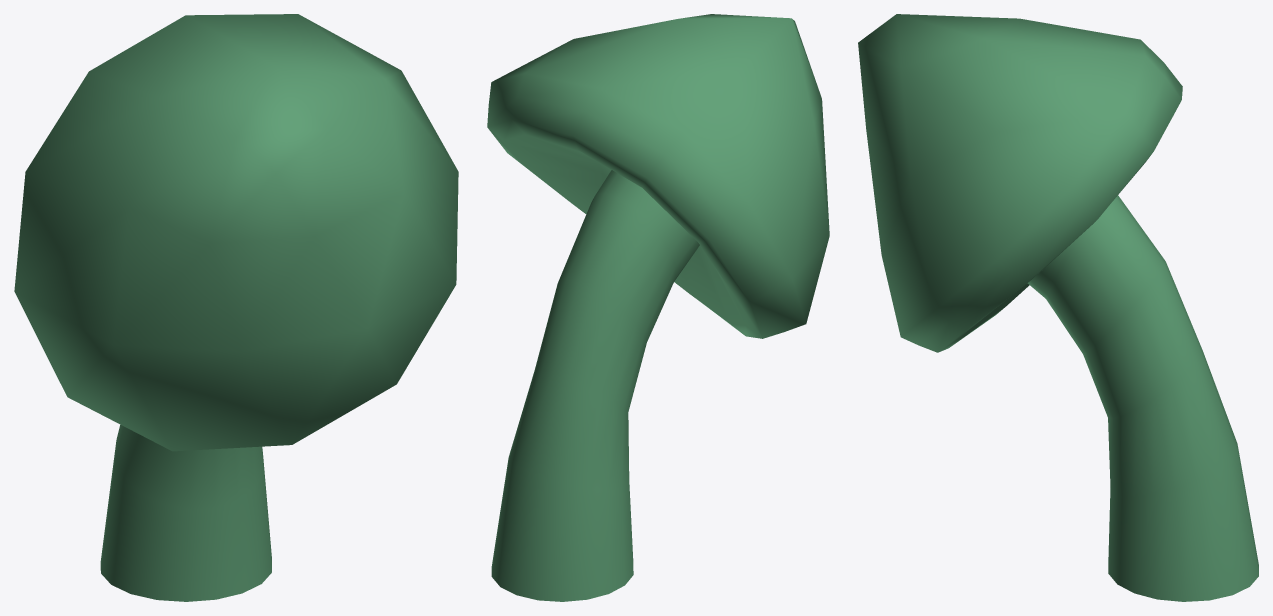
Rendered from Mushroom01.fbx.
The picture shows the model from 3 angles, left to right: view 1: azimuth 30°, elevation 25°; view 2: azimuth 150°, elevation 25°; view 3: azimuth 270°, elevation 25°; orthographic projection. The views are drawn at different scales.
Visible parts, largest first — view 1: Mushroom_1_LOD0; view 2: Mushroom_1_LOD0; view 3: Mushroom_1_LOD0.
Part boxes in pixels (x1,y1,x2,y2): Mushroom_1_LOD0: [14, 14, 458, 601]; Mushroom_1_LOD0: [487, 14, 829, 601]; Mushroom_1_LOD0: [858, 14, 1258, 601].
Size of what is drawn, in the model's own units: 47.44 by 68.63 by 47.92.
